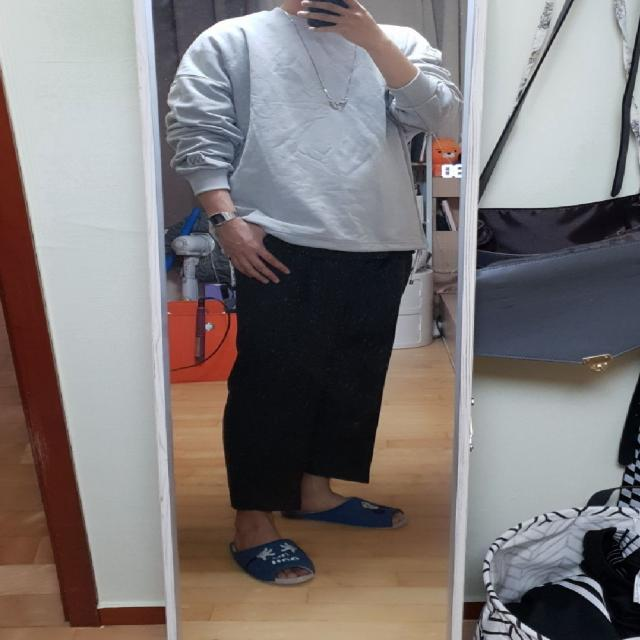shortsleeve: (171, 9, 466, 258)
skirt: (218, 225, 412, 510)
